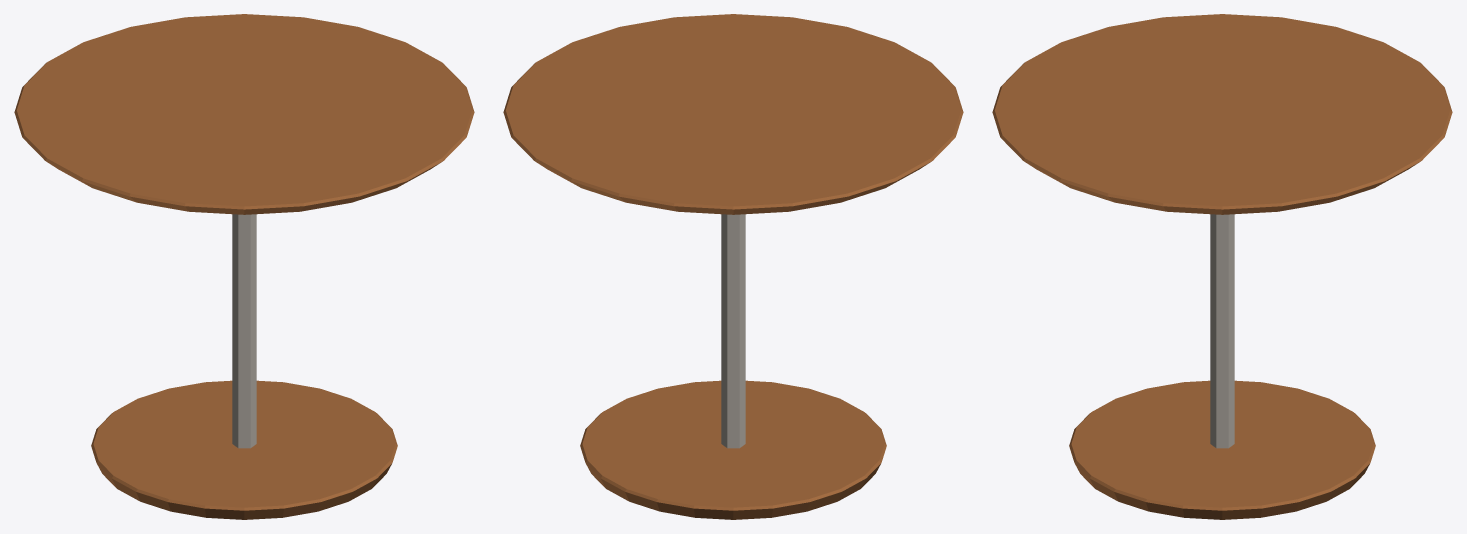
File: Table.glb
3 views of the same model, side by side, from view 1: azimuth 30°, elevation 25°; view 2: azimuth 150°, elevation 25°; view 3: azimuth 270°, elevation 25° (orthographic).
Parts seen in each view (by area): view 1: Node; view 2: Node; view 3: Node.
Boxes of the visible parts, x1,y1,x2,y2 form: Node: (14, 14, 474, 519); Node: (503, 14, 963, 519); Node: (992, 14, 1452, 519).
Size of the model in its own units: 24 by 20 by 24.
